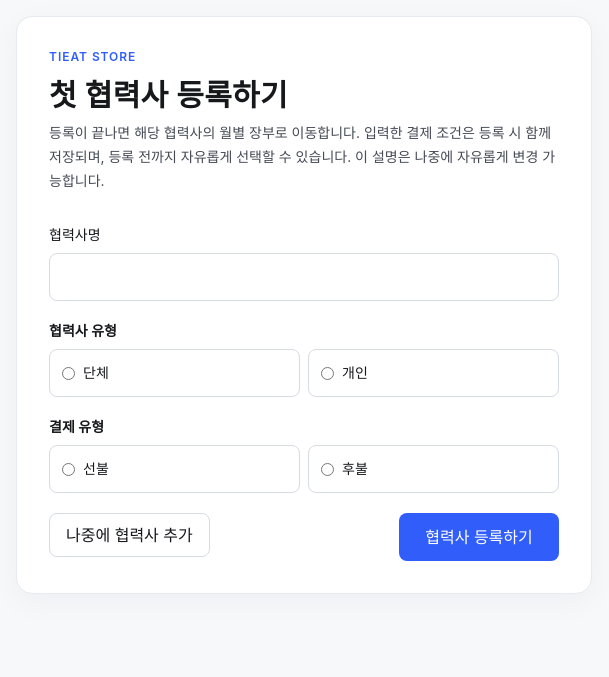
Test: PartnerRegistrationForm › requires payment type while keeping QR visibility out of the customer form
expect the heading "첫 협력사 등록하기" is shown: met, box top-left (49, 77), bottom-right (288, 113)
Type "Partner A" into the field labelled "협력사명" at {"x": 304, "y": 277}, box top-left (49, 253), bottom-right (559, 301)
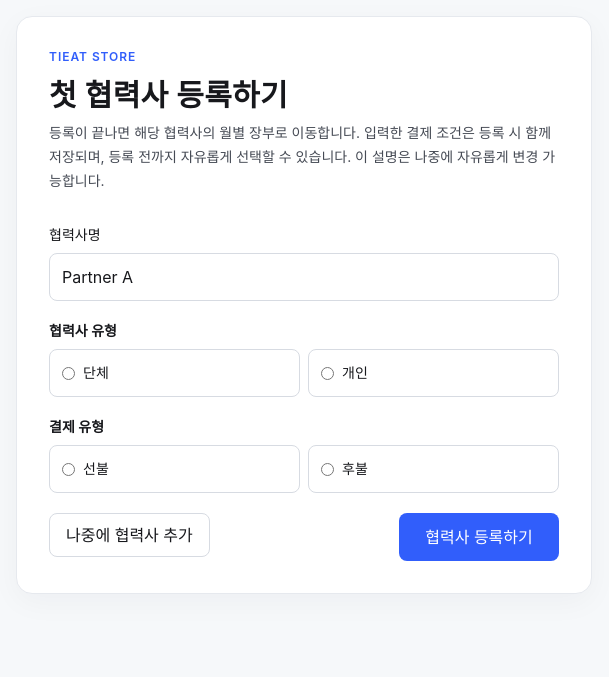
Click the radio button labelled "단체" at {"x": 68, "y": 373}, box top-left (62, 366), bottom-right (75, 380)
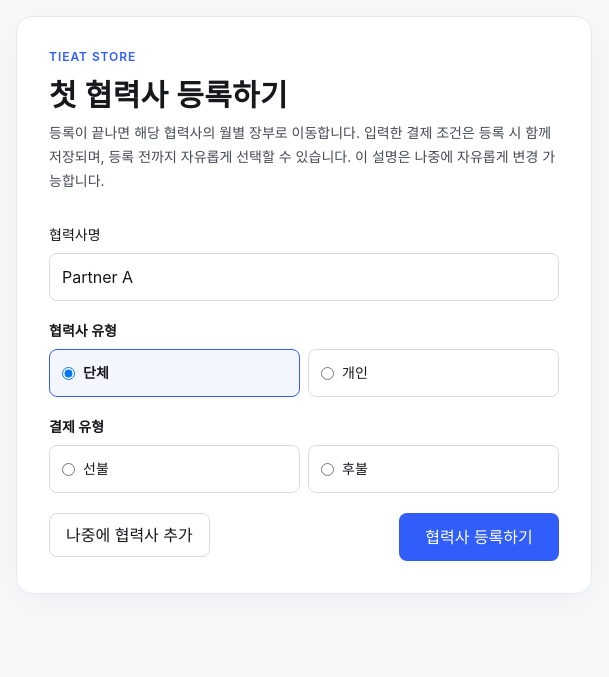
Submit the form "협력사 등록하기", box top-left (49, 225), bottom-right (559, 561)
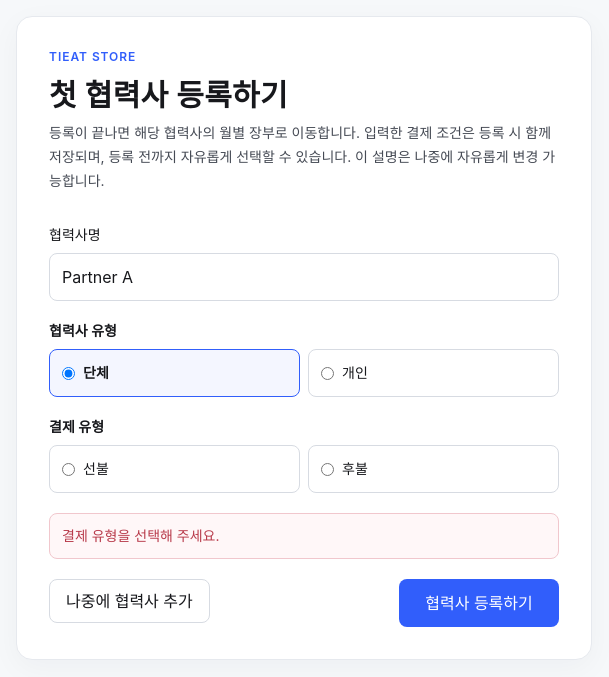
expect the message reads "결제 유형을 선택해 주세요.": met, box top-left (62, 527), bottom-right (220, 544)
